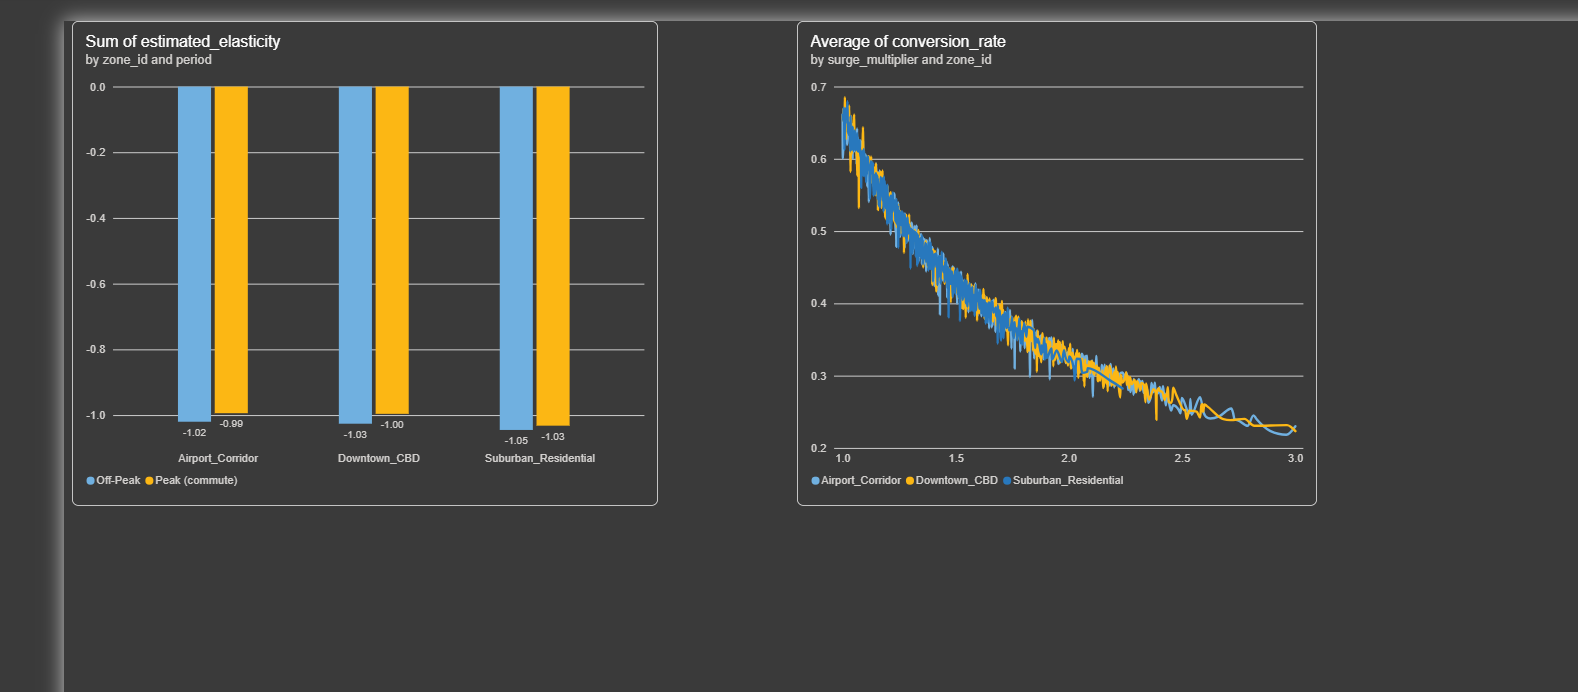

What the dashboard file says about the page in this screenshot:
{"tool":"powerbi","page":{"name":"Elasticity Model","canvas":[1920,1080],"ordinal":2},"visuals":[{"type":"clusteredColumnChart","fields":{"Category":["phase2_elasticity_estimates.zone_id"],"Series":["phase2_elasticity_estimates.period"],"Y":["Sum(phase2_elasticity_estimates.estimated_elasticity)"]},"box":[9.6,0,732.7,605.8],"z":0},{"type":"lineChart","fields":{"Category":["dynamic_pricing_synthetic_data.surge_multiplier"],"Series":["dynamic_pricing_synthetic_data.zone_id"],"Y":["Avg(dynamic_pricing_synthetic_data.conversion_rate)"]},"box":[915.4,0,650,605.8],"z":1}]}

Visuals, with their boxes on the page's 1920x1080 design canvas (x1, y1, x2, y2). These are canvas units, not pixel positions in the 1578x692 screenshot, which may show the page scaled, cropped or inside an application window:
clusteredColumnChart - phase2_elasticity_estimates.zone_id x phase2_elasticity_estimates.period: bbox(10, 0, 742, 606)
lineChart - dynamic_pricing_synthetic_data.surge_multiplier x dynamic_pricing_synthetic_data.zone_id: bbox(915, 0, 1565, 606)
